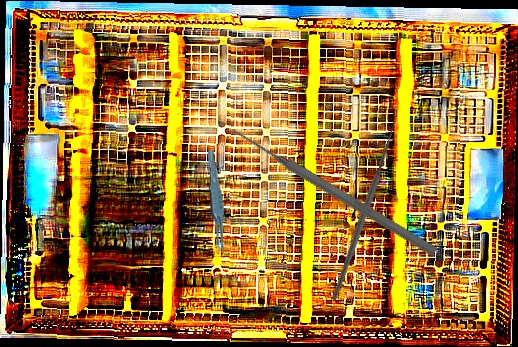Hook Surgical: (261, 104, 465, 302)
Pusher: (228, 123, 439, 258)
Tissue Forceps: (207, 149, 226, 260)
